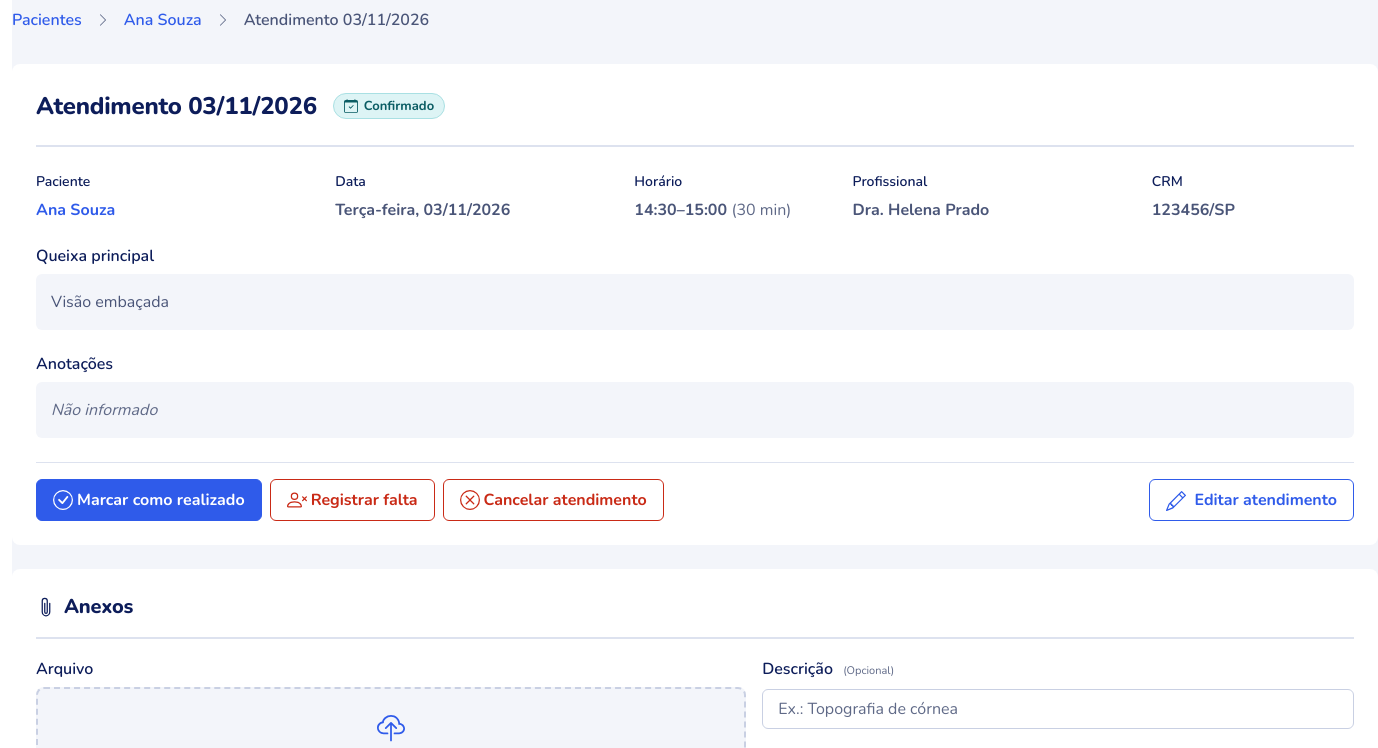
Test: ConsultationDetailView › marking as completed reveals the prontuário form
Click the button "Marcar como realizado": (149, 500) [36,479,262,521]
(page scrolled)
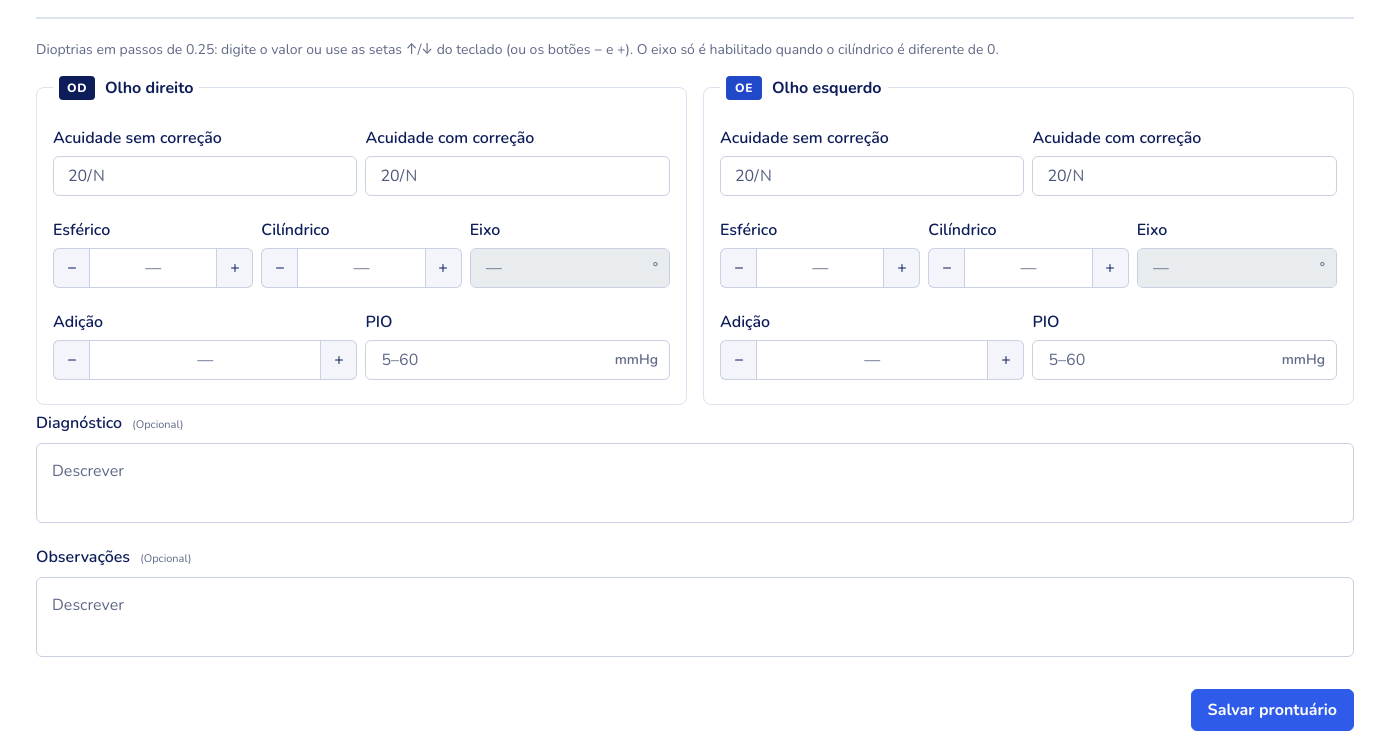
Check: no buttons with class "status-actions__btn" are shown
Check: the form with class "eye-exam-form" is shown
